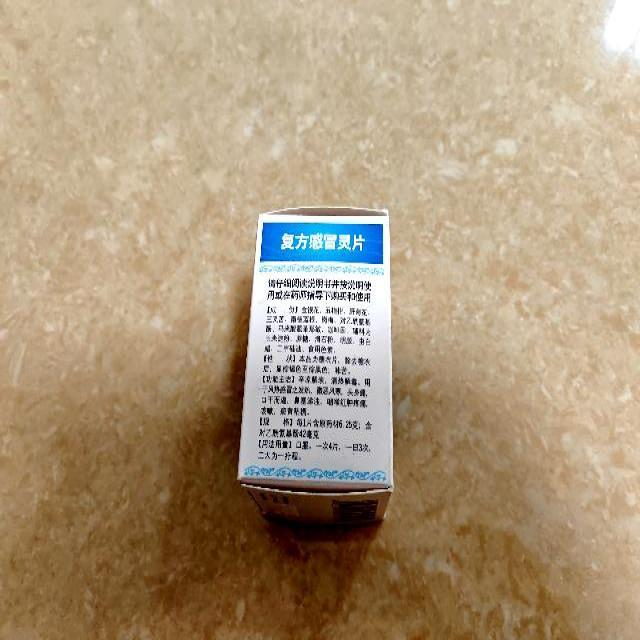box: (238, 204, 394, 524)
